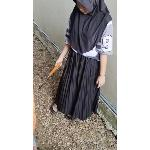Celurit: (36, 62, 62, 91)
